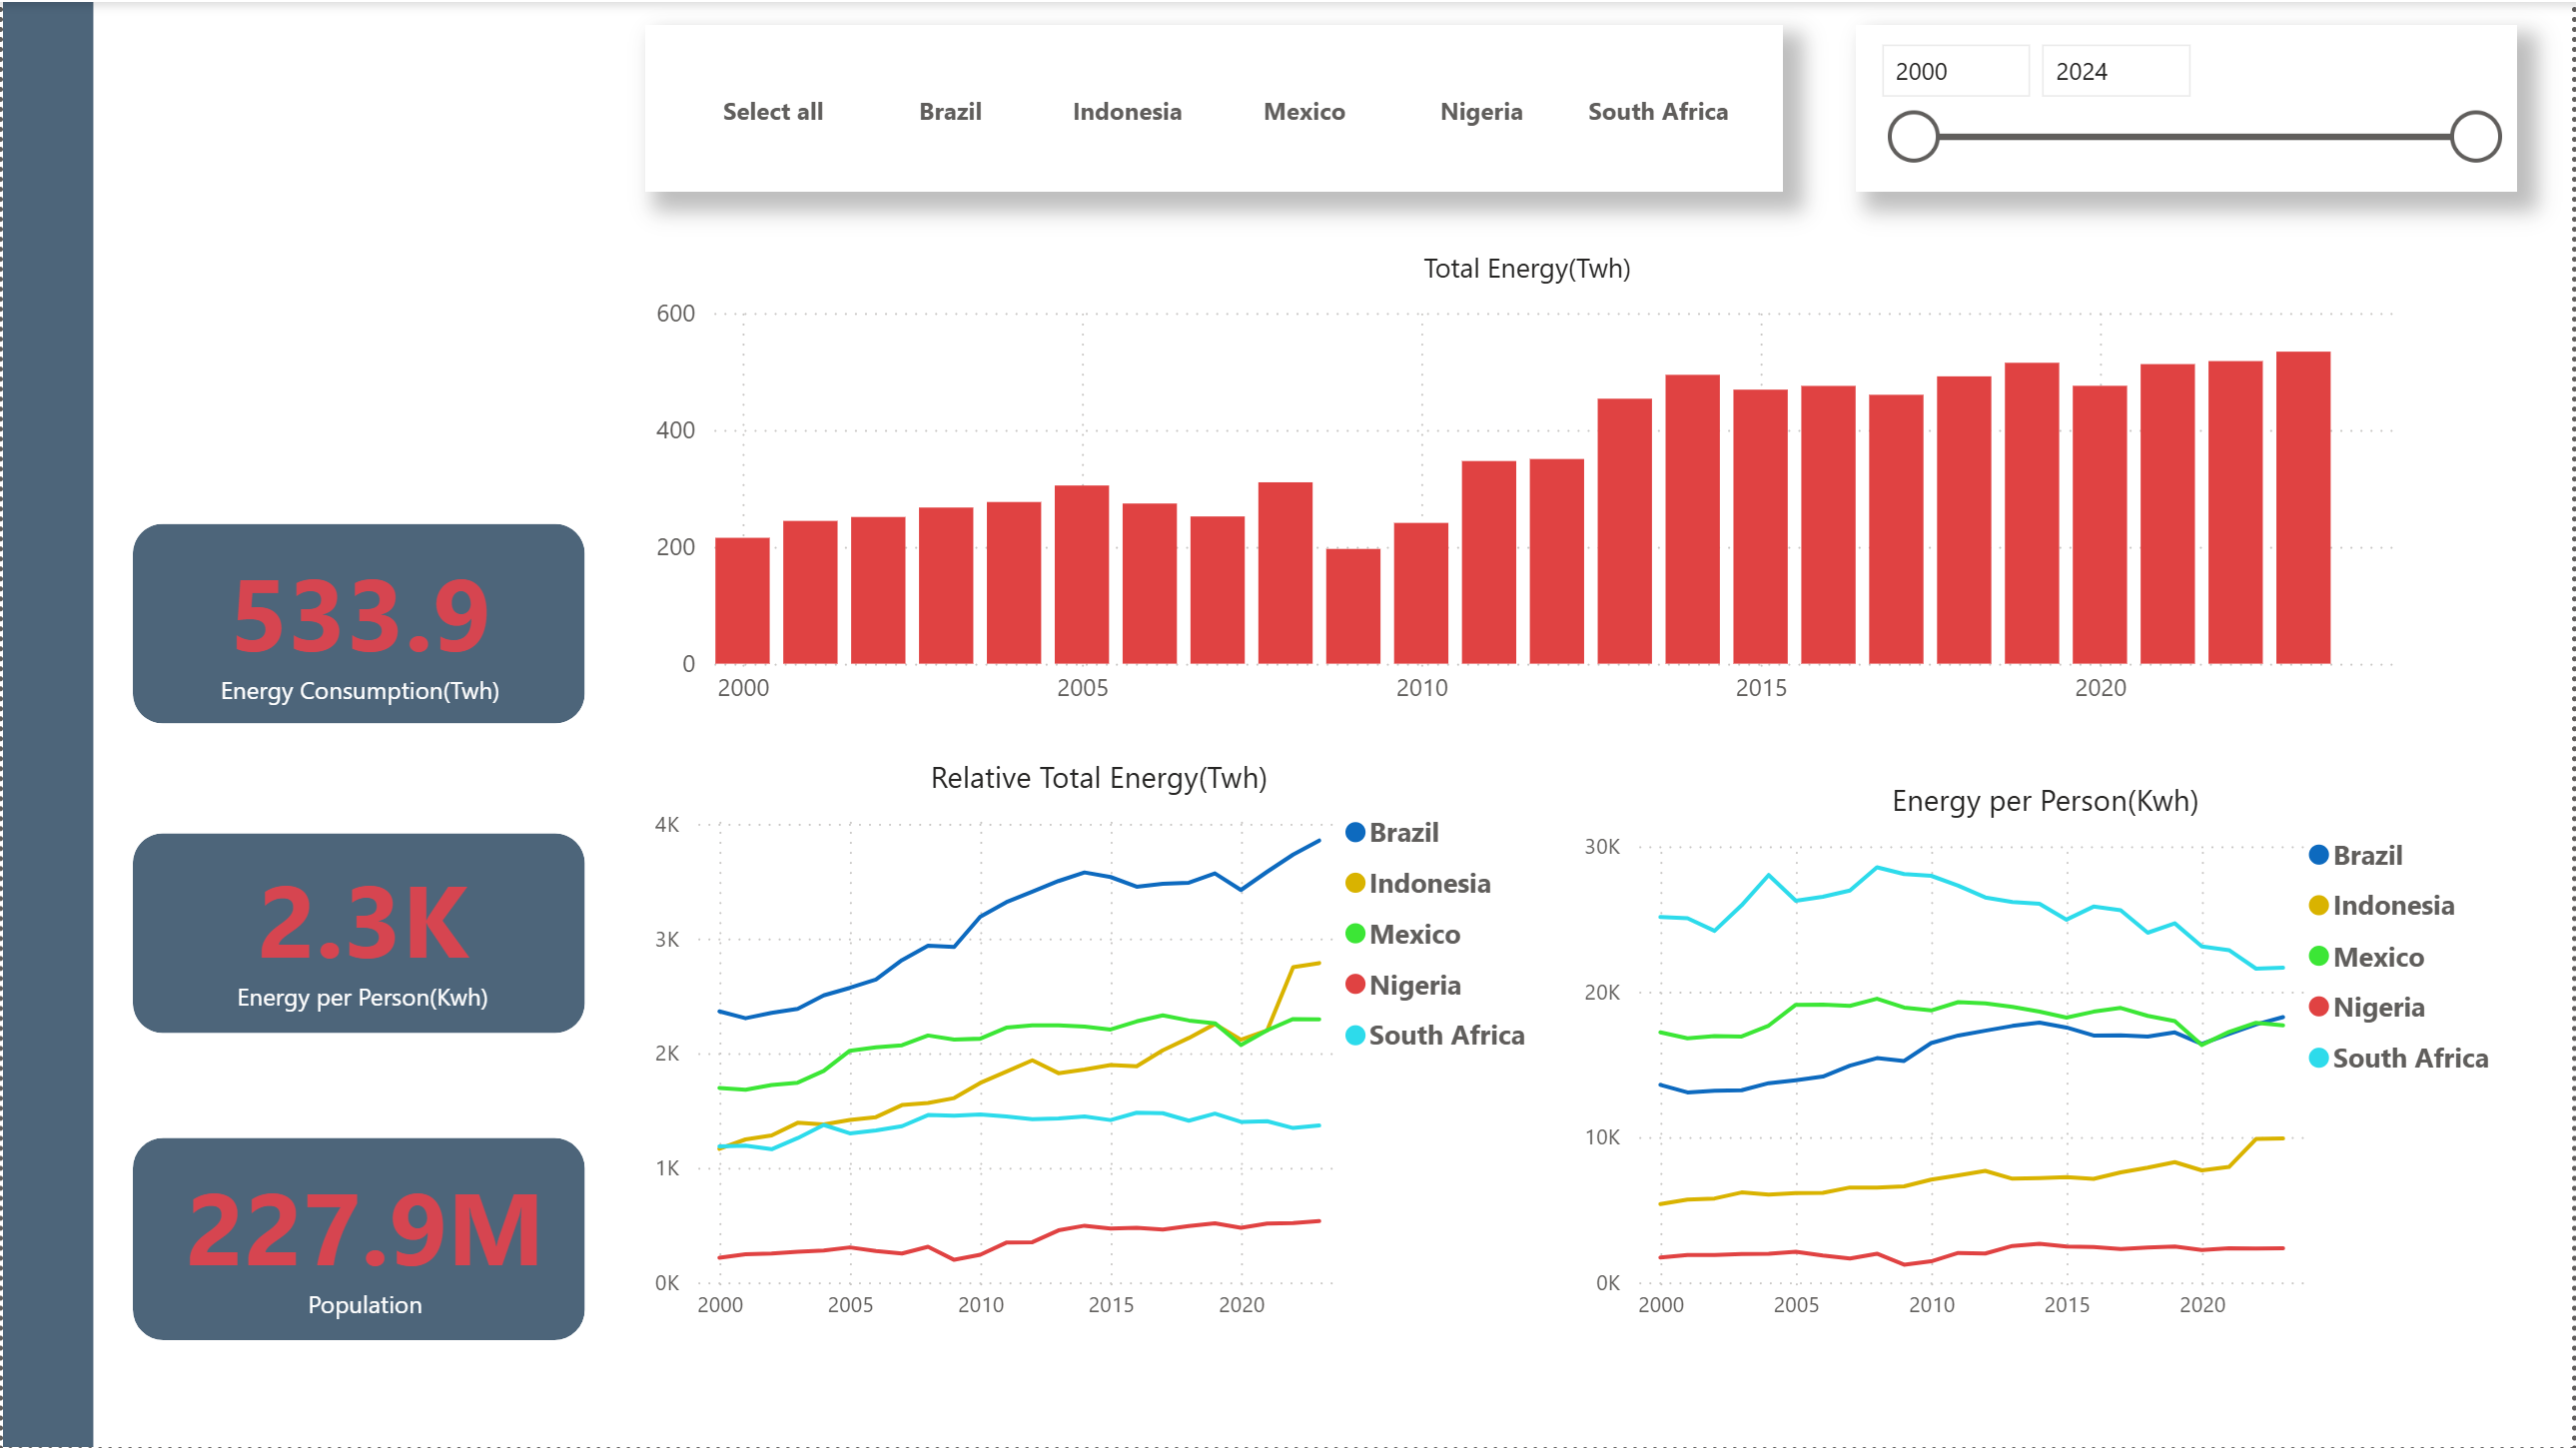

This screenshot's page, from the dashboard's own definition file:
{"tool":"powerbi","page":{"name":"Primary Enegry Consumption","canvas":[1280,720],"ordinal":0},"visuals":[{"type":"shape","box":[64.7,260,225.2,99.5],"z":0,"group":"g2"},{"type":"card","fields":{"Values":["Measure Table.Total Energy"]},"box":[64.8,260.3,226.1,99.6],"z":0,"group":"g3"},{"type":"lineChart","title":"Relative Total Energy(Twh) ","fields":{"Category":["energy_consumption_trend.year_date"],"Series":["energy_consumption_trend.country"],"Y":["Measure Table.Total Energy"]},"box":[319.7,375.7,452.8,291.1],"z":0},{"type":"lineChart","title":"Energy per Person(Kwh)","fields":{"Category":["energy_consumption_trend.year_date"],"Series":["energy_consumption_trend.country"],"Y":["Measure Table.Average Energy per capita"]},"box":[782.5,386.9,470.2,279.9],"z":1000},{"type":"shape","box":[64.7,414.2,225.2,99.5],"z":1000,"group":"g2"},{"type":"card","fields":{"Values":["Sum(energy_consumption_trend.population)"]},"box":[66.8,566.1,226.1,99.6],"z":1000,"group":"g3"},{"type":"columnChart","title":"Total Energy(Twh)","fields":{"Category":["year_date.year_date.Variation.Date Hierarchy.Year"],"Y":["Measure Table.Total Energy"],"Series":["country.country"]},"box":[320.3,122.6,932,236.6],"z":2000},{"type":"card","fields":{"Values":["Measure Table.Average Energy per capita"]},"box":[65.8,413.9,226.1,99.6],"z":2000,"group":"g3"},{"type":"shape","box":[64.8,566,225.2,100.8],"z":2000,"group":"g2"},{"type":"group","id":"g1","title":"KPIs","box":[0,0,293,720.3],"z":3000},{"type":"group","id":"g2","title":"KPI shapes","box":[0,0,289.9,720.3],"z":3000,"group":"g1"},{"type":"shape","box":[0,0,45,720.3],"z":3000,"group":"g2"},{"type":"slicer","fields":{"Values":["country.country"]},"box":[319.7,11.2,567.2,83.3],"z":4000},{"type":"group","id":"g3","title":"KPI values","box":[64.8,260.3,228.2,405.3],"z":4000,"group":"g1"},{"type":"slicer","fields":{"Values":["year_date.year_date.Variation.Date Hierarchy.Year"]},"box":[923,11.2,329.6,83.3],"z":5000}]}

Visuals, with their boxes in screenshot pixels (x1, y1, x2, y2), scaled from the page's 1280x720 canvas onto the 2576x1448 screenshot:
shape: (130,523,583,723)
card - Measure Table.Total Energy: (131,523,585,724)
"Relative Total Energy(Twh) " lineChart: (643,756,1554,1341)
"Energy per Person(Kwh)" lineChart: (1575,778,2521,1341)
shape: (130,833,583,1034)
card - Sum(energy_consumption_trend.population): (135,1138,589,1339)
"Total Energy(Twh)" columnChart: (644,247,2520,722)
card - Measure Table.Average Energy per capita: (133,833,587,1033)
shape: (131,1138,583,1341)
"KPIs" group: (0,0,589,1447)
"KPI shapes" group: (0,0,583,1447)
shape: (0,0,91,1447)
slicer - country.country: (643,23,1785,190)
"KPI values" group: (131,523,589,1338)
slicer - year_date.year_date.Variation.Date Hierarchy.Year: (1858,23,2521,190)
